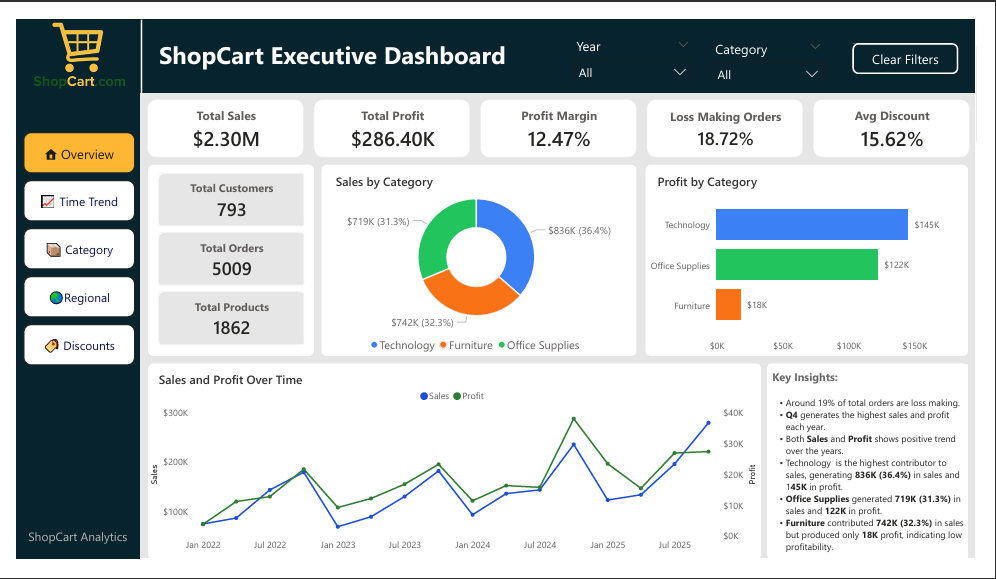

What the dashboard file says about the page in this screenshot:
{"tool":"powerbi","page":{"name":"🏠︎ Overview","canvas":[1280,720],"ordinal":0},"visuals":[{"type":"shape","box":[0,0,1278.5,718.5],"z":0},{"type":"shape","box":[0,0,164.6,718.5],"z":1000},{"type":"shape","box":[164.6,0,1113.8,98.4],"z":2000},{"type":"image","box":[1.5,0,163.6,97],"z":3000},{"type":"textbox","box":[171.9,19.1,496.7,57.3],"z":4000},{"type":"cardVisual","fields":{"Data":["Sum(shopcart.Sales)","Sum(shopcart.Profit)","shopcart.Profit Margin","shopcart.Loss Making Orders","Avg(shopcart.Discount)"]},"box":[165.2,97.1,1114.5,95.7],"z":5000},{"type":"shape","box":[405.8,192.8,420.3,255.1],"z":6000},{"type":"shape","box":[174.9,458.4,817,261.6],"z":7000},{"type":"shape","box":[837.7,192.8,430.4,255.1],"z":8000},{"type":"donutChart","fields":{"Category":["shopcart.Category"],"Y":["Sum(shopcart.Sales)"]},"box":[402.9,210.1,418.8,237.7],"z":9000},{"type":"barChart","fields":{"Category":["shopcart.Category"],"Y":["Sum(shopcart.Profit)"]},"box":[837.7,223.2,430.4,224.6],"z":10000},{"type":"textbox","box":[420.3,198.6,192.8,36.2],"z":11000},{"type":"textbox","box":[849.3,200,191.3,34.8],"z":12000},{"type":"textbox","box":[183.7,464.3,236.6,33.8],"z":13000},{"type":"shape","box":[175.4,192.8,220.3,255.1],"z":14000},{"type":"shape","box":[1000,458.4,268,260.1],"z":15000},{"type":"textbox","box":[1002.1,459.9,266,260.1],"z":16000},{"type":"cardVisual","fields":{"Data":["Count(shopcart.Customer ID)","Count(shopcart.Order ID)","Count(shopcart.Product ID)"]},"box":[174.9,192.5,220.4,255.7],"z":17000},{"type":"slicer","fields":{"Values":["shopcart.Order Date.Variation.Date Hierarchy.Year"]},"box":[733.2,17.6,174.9,60.2],"z":18000},{"type":"slicer","fields":{"Values":["shopcart.Category"]},"box":[918.4,20.6,166,60.2],"z":19000},{"type":"actionButton","box":[1113.8,30.9,141.1,41.1],"z":20000},{"type":"lineChart","fields":{"Y":["Sum(shopcart.Sales)"],"Y2":["Sum(shopcart.Profit)"],"Category":["shopcart.Order Date.Variation.Date Hierarchy.Year","shopcart.Order Date.Variation.Date Hierarchy.Quarter","shopcart.Order Date.Variation.Date Hierarchy.Month","shopcart.Order Date.Variation.Date Hierarchy.Day"]},"box":[172.7,481.8,818.2,236.4],"z":21000},{"type":"shape","box":[135.4,0,61.5,98.5],"z":22000},{"type":"pageNavigator","box":[8.8,149.9,148.4,314.4],"z":23000},{"type":"textbox","box":[10.3,673,145.5,45.6],"z":24000}]}

Visuals, with their boxes on the page's 1280x720 design canvas (x1, y1, x2, y2). These are canvas units, not pixel positions in the 996x579 screenshot, which may show the page scaled, cropped or inside an application window:
shape: (x1=0, y1=0, x2=1278, y2=718)
shape: (x1=0, y1=0, x2=165, y2=718)
shape: (x1=165, y1=0, x2=1278, y2=98)
image: (x1=2, y1=0, x2=165, y2=97)
textbox: (x1=172, y1=19, x2=669, y2=76)
cardVisual - Sum(shopcart.Sales) x Sum(shopcart.Profit): (x1=165, y1=97, x2=1280, y2=193)
shape: (x1=406, y1=193, x2=826, y2=448)
shape: (x1=175, y1=458, x2=992, y2=720)
shape: (x1=838, y1=193, x2=1268, y2=448)
donutChart - shopcart.Category x Sum(shopcart.Sales): (x1=403, y1=210, x2=822, y2=448)
barChart - shopcart.Category x Sum(shopcart.Profit): (x1=838, y1=223, x2=1268, y2=448)
textbox: (x1=420, y1=199, x2=613, y2=235)
textbox: (x1=849, y1=200, x2=1041, y2=235)
textbox: (x1=184, y1=464, x2=420, y2=498)
shape: (x1=175, y1=193, x2=396, y2=448)
shape: (x1=1000, y1=458, x2=1268, y2=718)
textbox: (x1=1002, y1=460, x2=1268, y2=720)
cardVisual - Count(shopcart.Customer ID) x Count(shopcart.Order ID): (x1=175, y1=192, x2=395, y2=448)
slicer - shopcart.Order Date.Variation.Date Hierarchy.Year: (x1=733, y1=18, x2=908, y2=78)
slicer - shopcart.Category: (x1=918, y1=21, x2=1084, y2=81)
actionButton: (x1=1114, y1=31, x2=1255, y2=72)
lineChart - Sum(shopcart.Sales) x Sum(shopcart.Profit): (x1=173, y1=482, x2=991, y2=718)
shape: (x1=135, y1=0, x2=197, y2=98)
pageNavigator: (x1=9, y1=150, x2=157, y2=464)
textbox: (x1=10, y1=673, x2=156, y2=719)
